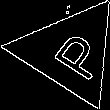P_NW: (35, 22, 104, 82)
